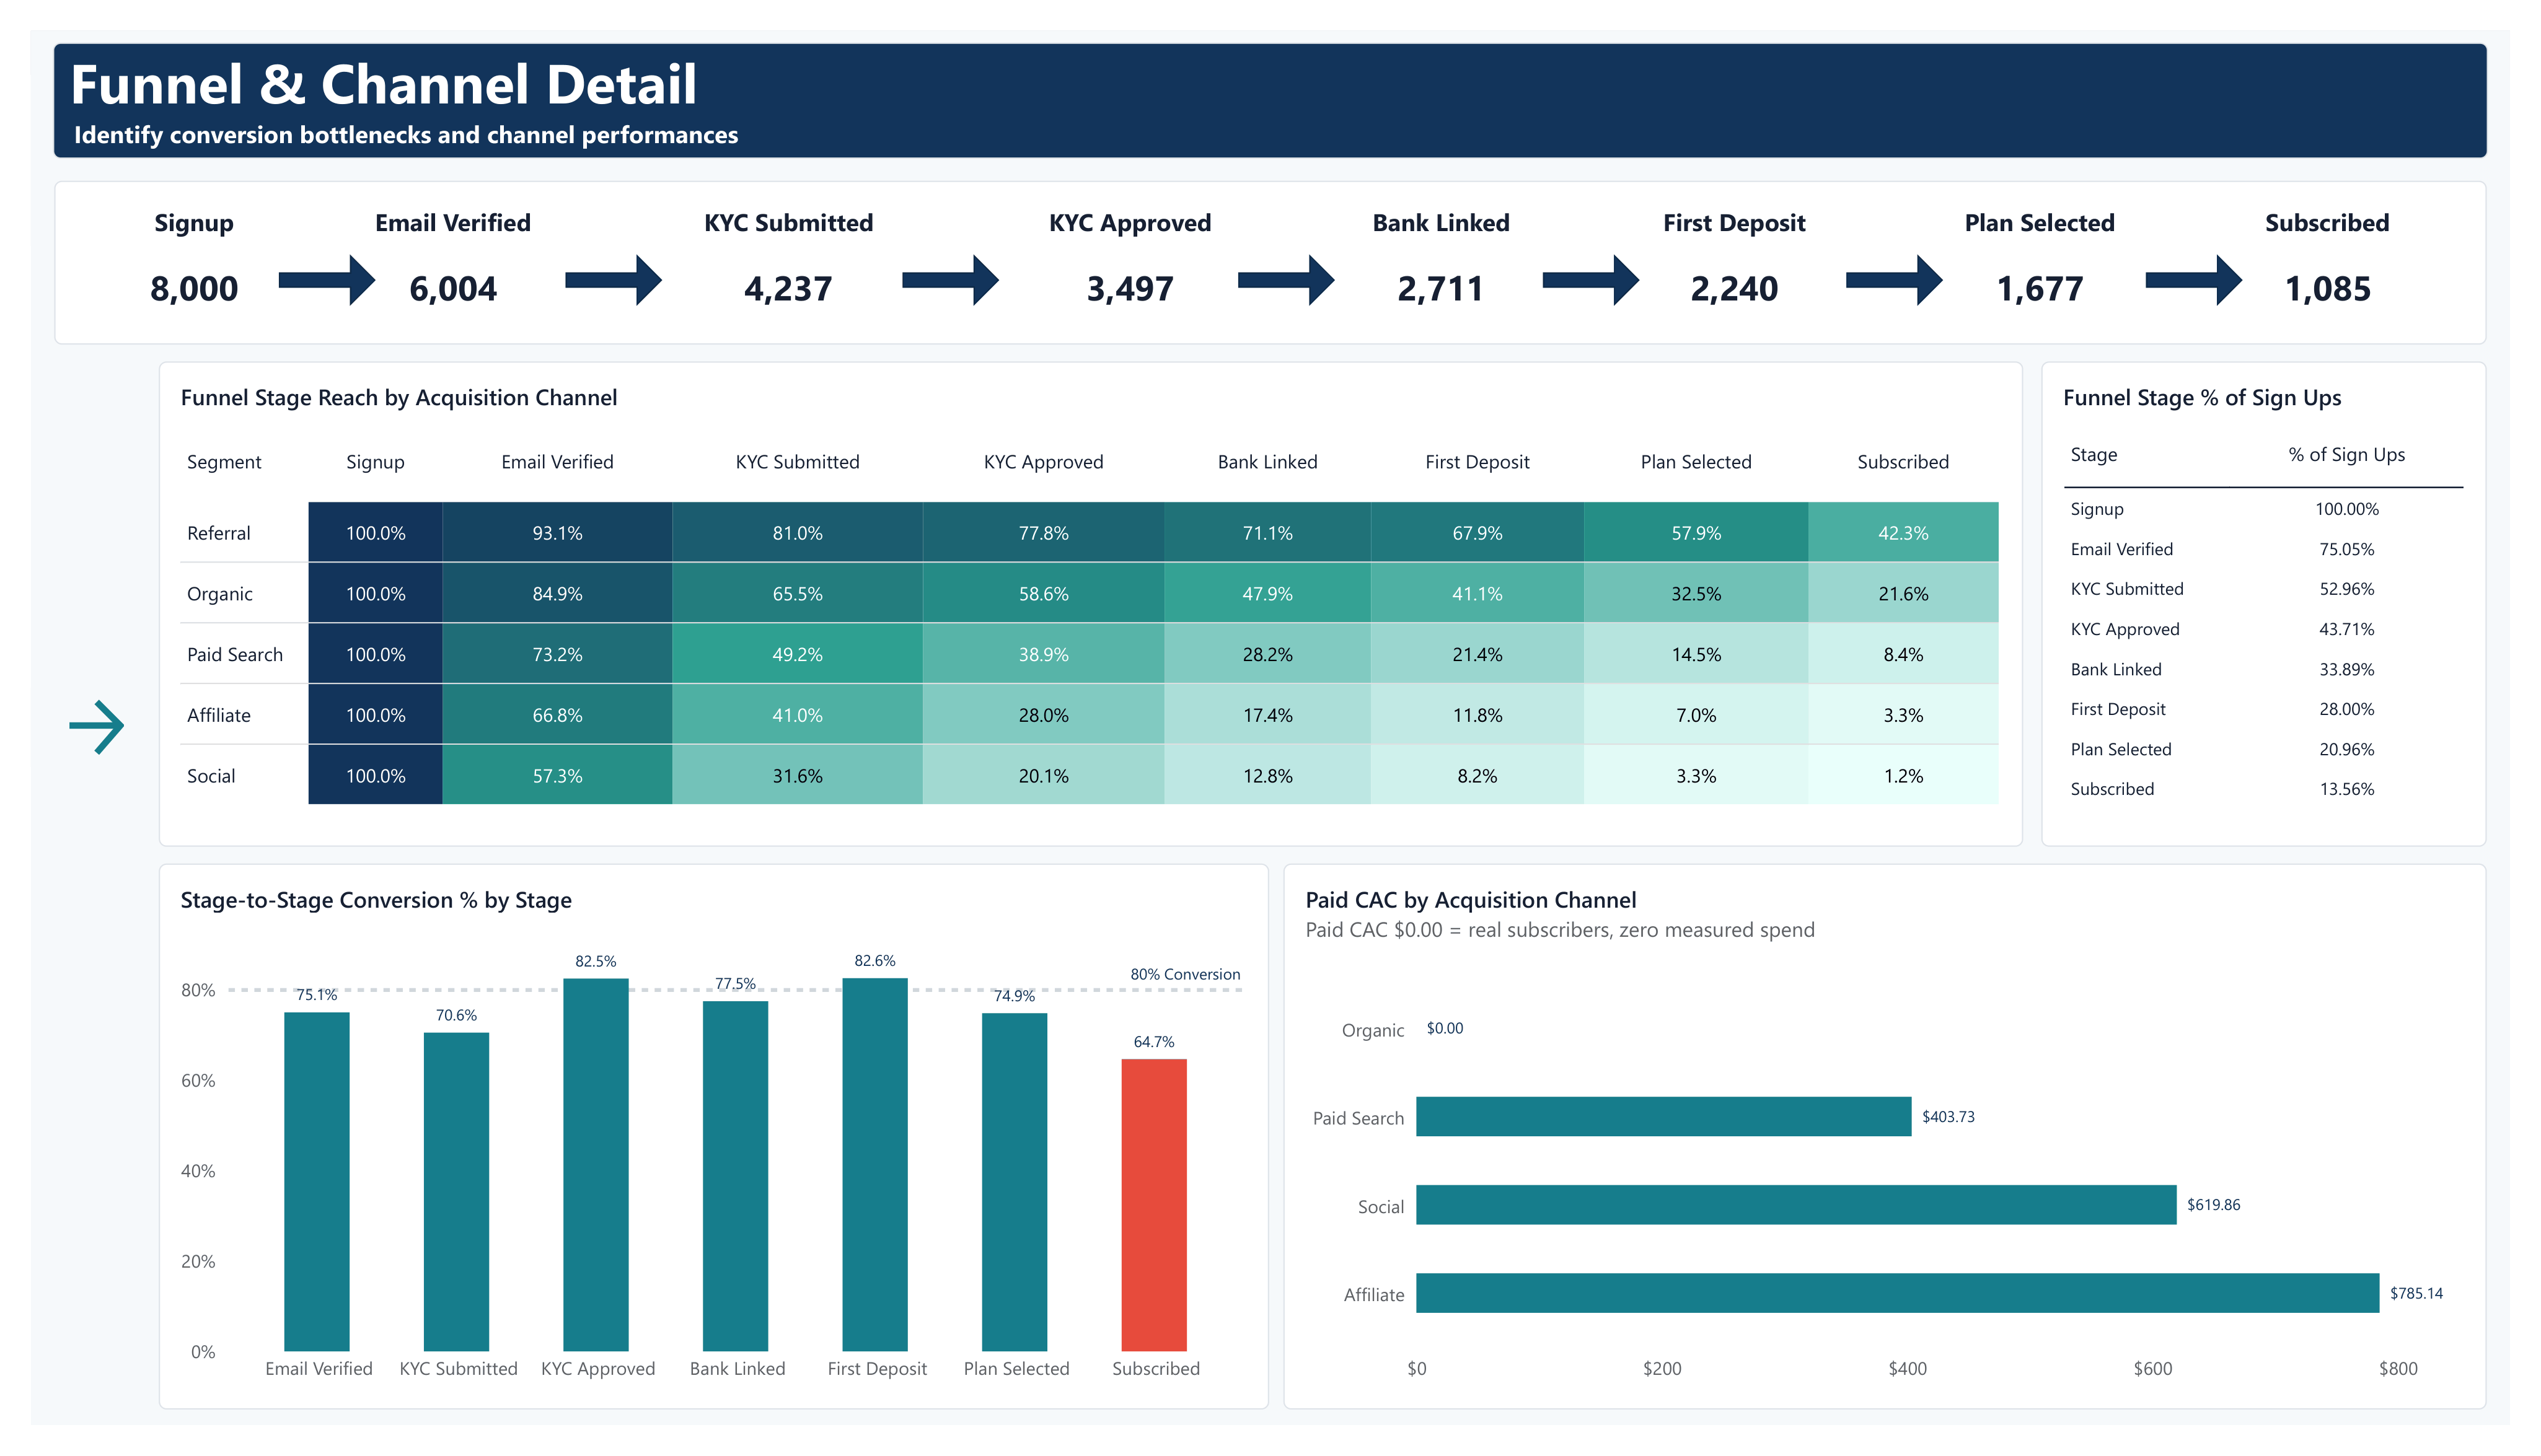

Layout of this report page (visuals, bound fields, positions):
{"tool":"powerbi","page":{"name":"Funnel and Channel Detail","canvas":[1920,1080],"ordinal":1},"visuals":[{"type":"clusteredColumnChart","title":"Stage-to-Stage Conversion % by Stage","fields":{"Category":["funnel_stage_summary.stage"],"Y":["Measures (2).Stage-to-Stage Conversion %"]},"box":[99,645.4,859.6,422.4],"z":0},{"type":"pivotTable","title":"Funnel Stage Reach by Acquisition Channel","fields":{"Rows":["funnel_stage_summary.segment"],"Columns":["funnel_stage_summary.stage"],"Values":["Sum(funnel_stage_summary.pct_of_segment_)"]},"box":[99,255.5,1444.4,376.6],"z":1000},{"type":"pivotTable","title":"Overall Funnel Conversion","fields":{"Values":["Sum(funnel_stage_summary.users_reached)"],"Columns":["funnel_stage_summary.stage"]},"box":[17.5,116,1885,127],"z":2000},{"type":"shape","box":[675,172.8,75,40],"z":3000},{"type":"shape","box":[934.9,172.8,75,40],"z":4000},{"type":"shape","box":[1171.2,172.8,75,40],"z":5000},{"type":"shape","box":[1406,172.8,75,40],"z":6000},{"type":"shape","box":[1637.9,172.8,75,40],"z":7000},{"type":"shape","box":[192,172.8,75,40],"z":8000},{"type":"shape","box":[413.5,172.8,75,40],"z":9000},{"type":"actionButton","box":[0,505.4,99.3,68.4],"z":10000},{"type":"textbox","box":[17.4,8.7,1885.5,89.9],"z":11000},{"type":"barChart","title":"Paid CAC by Acquisition Channel","fields":{"Category":["master.acquisition_channel"],"Y":["Measures (2).CAC2"]},"box":[970.3,645.4,931.9,422.4],"z":12000},{"type":"tableEx","title":"Funnel Stage % of Sign Ups","fields":{"Values":["funnel_stage_summary.stage","Sum(funnel_stage_summary.pct_of_segment_)"]},"box":[1556.7,255.5,345.6,376.6],"z":13000}]}

Visuals, with their boxes on the page's 1920x1080 design canvas (x1, y1, x2, y2). These are canvas units, not pixel positions in the 2541x1456 screenshot, which may show the page scaled, cropped or inside an application window:
"Stage-to-Stage Conversion % by Stage" clusteredColumnChart: <region>99, 645, 959, 1068</region>
"Funnel Stage Reach by Acquisition Channel" pivotTable: <region>99, 256, 1543, 632</region>
"Overall Funnel Conversion" pivotTable: <region>18, 116, 1902, 243</region>
shape: <region>675, 173, 750, 213</region>
shape: <region>935, 173, 1010, 213</region>
shape: <region>1171, 173, 1246, 213</region>
shape: <region>1406, 173, 1481, 213</region>
shape: <region>1638, 173, 1713, 213</region>
shape: <region>192, 173, 267, 213</region>
shape: <region>414, 173, 488, 213</region>
actionButton: <region>0, 505, 99, 574</region>
textbox: <region>17, 9, 1903, 99</region>
"Paid CAC by Acquisition Channel" barChart: <region>970, 645, 1902, 1068</region>
"Funnel Stage % of Sign Ups" tableEx: <region>1557, 256, 1902, 632</region>
